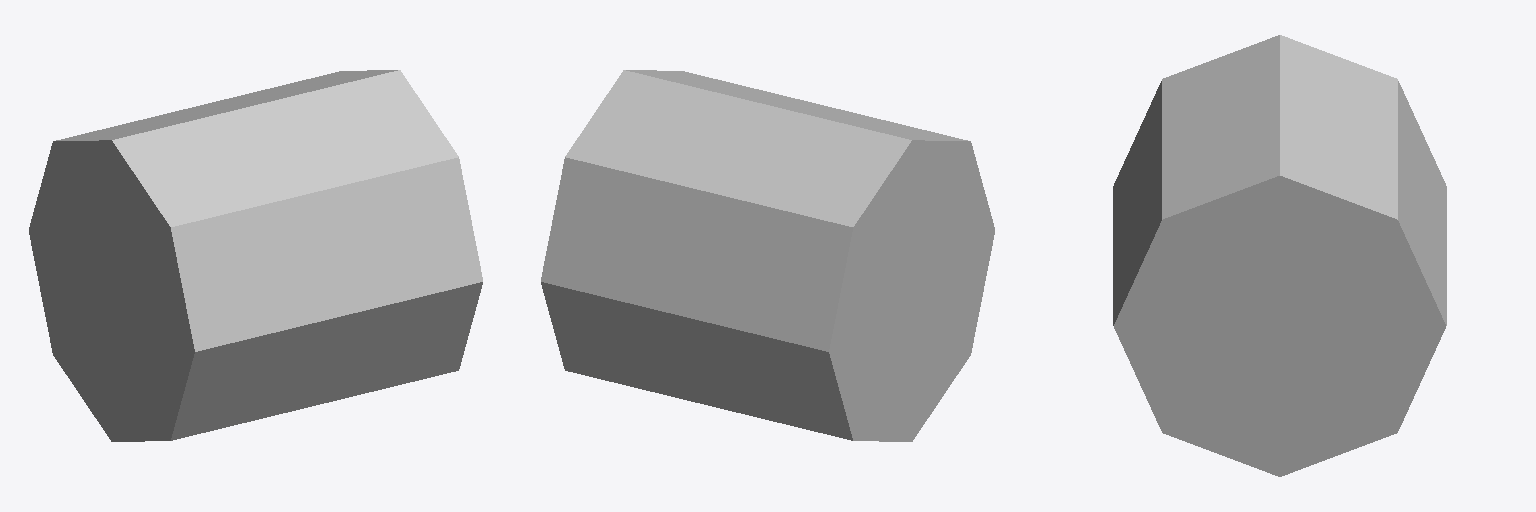
File: CylinderRotatedY.obj
3 renders of one model, left to right at view 1: azimuth 30°, elevation 25°; view 2: azimuth 150°, elevation 25°; view 3: azimuth 270°, elevation 25°, orthographic.
Parts seen in each view (by area): view 1: Cylinder; view 2: Cylinder; view 3: Cylinder.
Boxes of the visible parts, box(x1,y1,x2,y2) form: Cylinder: box(29, 70, 482, 441); Cylinder: box(541, 70, 994, 441); Cylinder: box(1113, 35, 1446, 476).
Bounding box in the file's own units: 2 × 2 × 2.